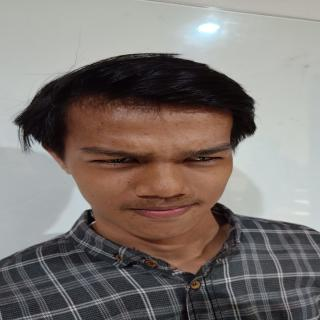Marah: (63, 88, 244, 244)
